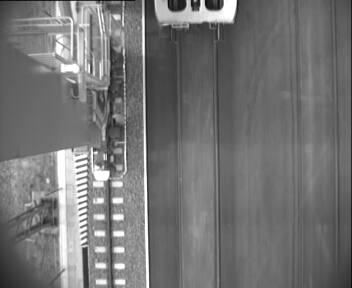twist_lock_2: (163, 1, 227, 13)
